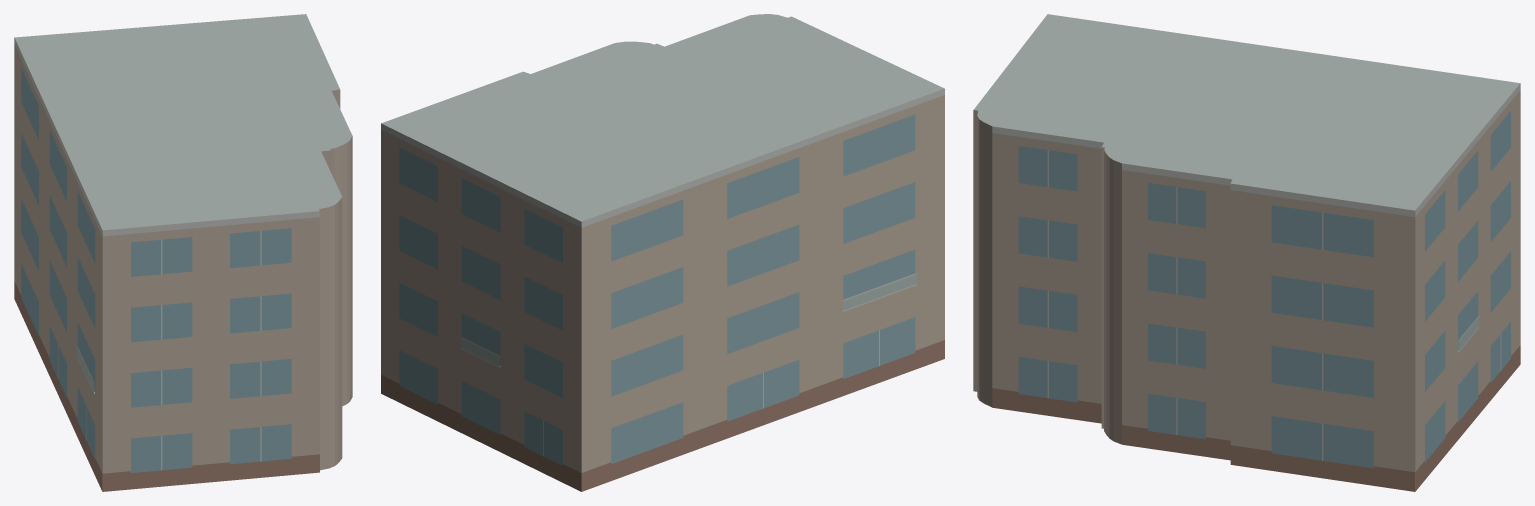
Rendered from survey-upis-32992869.glb.
3 renders of one model, left to right at view 1: azimuth 30°, elevation 25°; view 2: azimuth 150°, elevation 25°; view 3: azimuth 270°, elevation 25°, orthographic. The views are drawn at different scales.
Visible parts, largest first — view 1: survey-upis-32992869.tmp; view 2: survey-upis-32992869.tmp; view 3: survey-upis-32992869.tmp.
Boxes of the visible parts, <box> form: survey-upis-32992869.tmp: <box>14,14,352,491</box>; survey-upis-32992869.tmp: <box>381,14,944,491</box>; survey-upis-32992869.tmp: <box>973,14,1520,491</box>.
Size of the model in its own units: 15.75 by 10.5 by 18.52.
